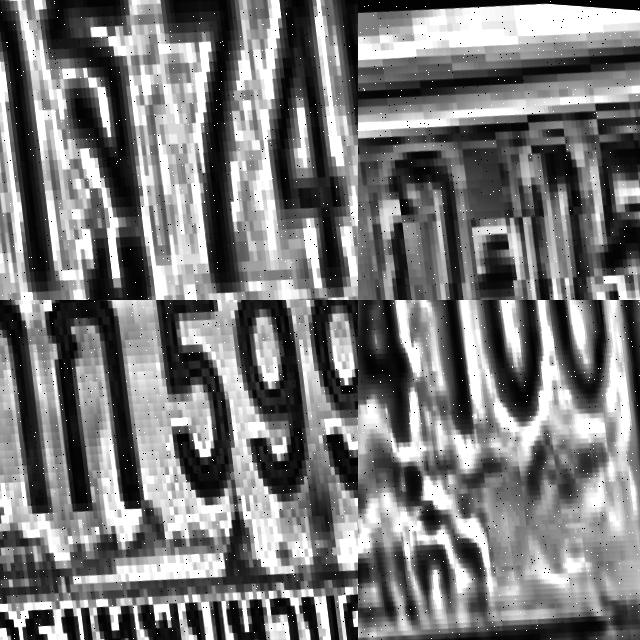license-plate: (0, 300, 358, 640), (0, 0, 358, 300), (358, 300, 640, 640), (358, 0, 640, 300)
